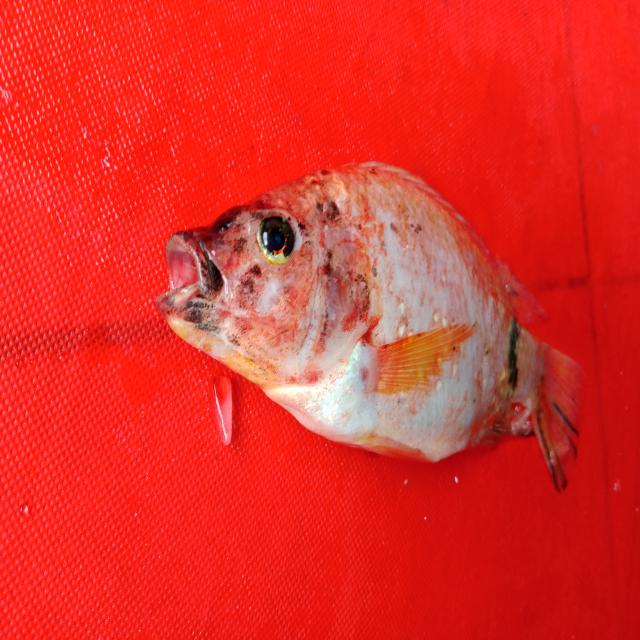ikan: (154, 144, 601, 495)
